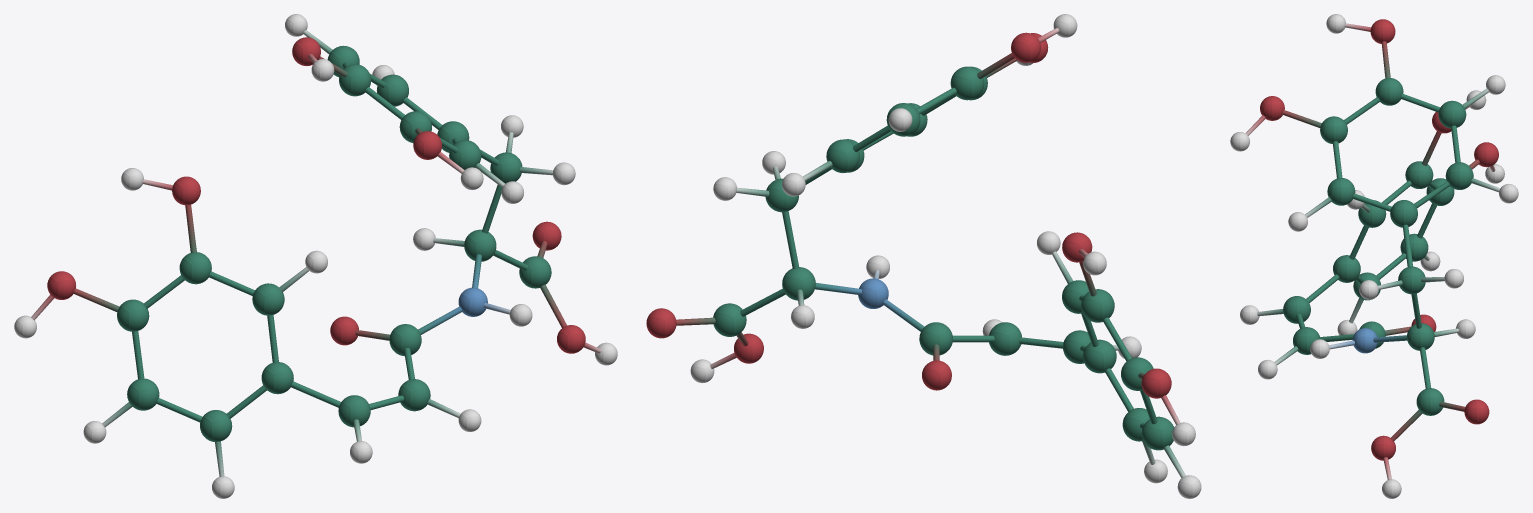
Rendered from Clovamide.fbx.
3 renders of one model, left to right at view 1: azimuth 30°, elevation 25°; view 2: azimuth 150°, elevation 25°; view 3: azimuth 270°, elevation 25°, orthographic. The views are drawn at different scales.
Visible parts, largest first — view 1: curMeshHyperballExportedMesh; view 2: curMeshHyperballExportedMesh; view 3: curMeshHyperballExportedMesh.
Part boxes in pixels (<box>): curMeshHyperballExportedMesh: <box>14,14,617,498</box>; curMeshHyperballExportedMesh: <box>646,14,1201,498</box>; curMeshHyperballExportedMesh: <box>1230,14,1518,498</box>.
Size of the model in its own units: 10.92 by 8.11 by 5.84.
